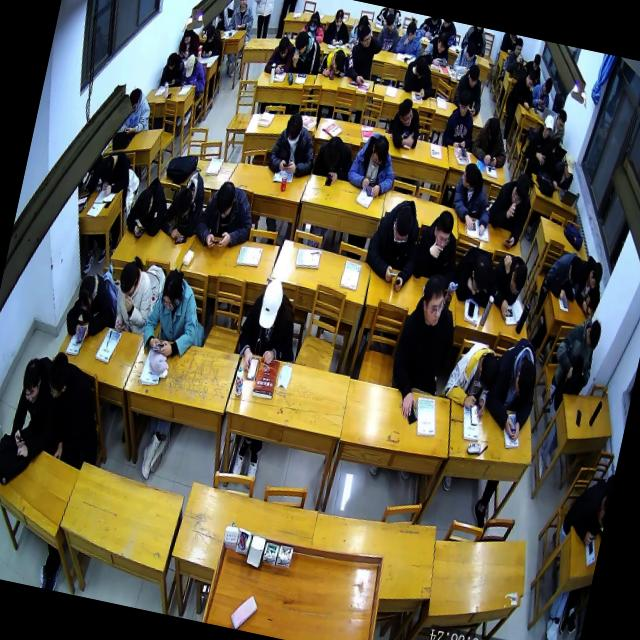bow: (60, 267, 124, 348), (157, 163, 211, 247), (482, 249, 532, 323), (123, 170, 174, 242), (446, 240, 499, 308), (538, 247, 586, 304), (571, 255, 609, 318), (387, 94, 428, 152), (312, 130, 357, 180), (94, 146, 134, 202), (288, 26, 326, 76), (400, 50, 438, 100), (263, 31, 299, 78), (504, 65, 538, 112), (316, 42, 352, 82), (375, 10, 404, 52), (299, 8, 329, 46)
down: (254, 276, 286, 334), (42, 347, 74, 401), (156, 267, 188, 315), (16, 356, 46, 407), (510, 357, 540, 404), (430, 206, 458, 253), (474, 349, 502, 394), (467, 252, 495, 296), (212, 177, 238, 221), (388, 205, 414, 248), (115, 259, 141, 301), (282, 110, 306, 152), (74, 271, 98, 312), (368, 132, 392, 170), (508, 170, 532, 208), (320, 134, 344, 171), (506, 260, 529, 298), (582, 316, 604, 354), (134, 185, 156, 222), (174, 186, 195, 220), (564, 254, 584, 289), (586, 260, 605, 292), (96, 152, 116, 182), (484, 115, 503, 145), (292, 28, 312, 56), (329, 46, 348, 74), (126, 84, 143, 114), (464, 62, 482, 90), (412, 54, 430, 80), (433, 27, 450, 54), (560, 153, 577, 180), (182, 52, 198, 80), (276, 33, 291, 60), (403, 20, 418, 44), (463, 40, 478, 64), (554, 108, 568, 133), (383, 11, 398, 33), (332, 6, 346, 28), (524, 68, 538, 90), (539, 75, 553, 97), (204, 22, 217, 44), (165, 52, 178, 72), (307, 10, 320, 30), (531, 51, 542, 72), (182, 25, 194, 44)
lookup: (415, 270, 451, 329), (454, 88, 474, 118), (539, 112, 556, 140), (512, 37, 524, 58), (237, 0, 250, 6)
sit: (380, 266, 467, 431), (29, 348, 117, 473), (232, 271, 310, 380), (478, 332, 546, 446), (137, 262, 209, 360), (360, 191, 429, 293), (5, 349, 66, 463), (191, 172, 261, 256), (546, 312, 604, 408), (437, 336, 503, 418), (482, 166, 538, 252), (408, 202, 465, 286), (108, 250, 160, 340), (264, 107, 324, 183), (445, 158, 501, 239), (556, 472, 612, 550), (342, 128, 402, 200), (343, 22, 386, 90), (440, 85, 482, 152), (468, 110, 514, 169), (520, 110, 560, 176), (450, 60, 490, 116), (120, 86, 156, 138), (178, 51, 210, 96), (322, 4, 355, 46), (421, 26, 454, 68), (394, 16, 428, 56), (158, 50, 187, 94), (549, 150, 579, 192), (451, 36, 481, 76), (225, 0, 259, 33), (198, 22, 226, 61), (527, 74, 554, 112), (504, 35, 529, 74), (176, 24, 203, 60), (522, 50, 546, 84)
